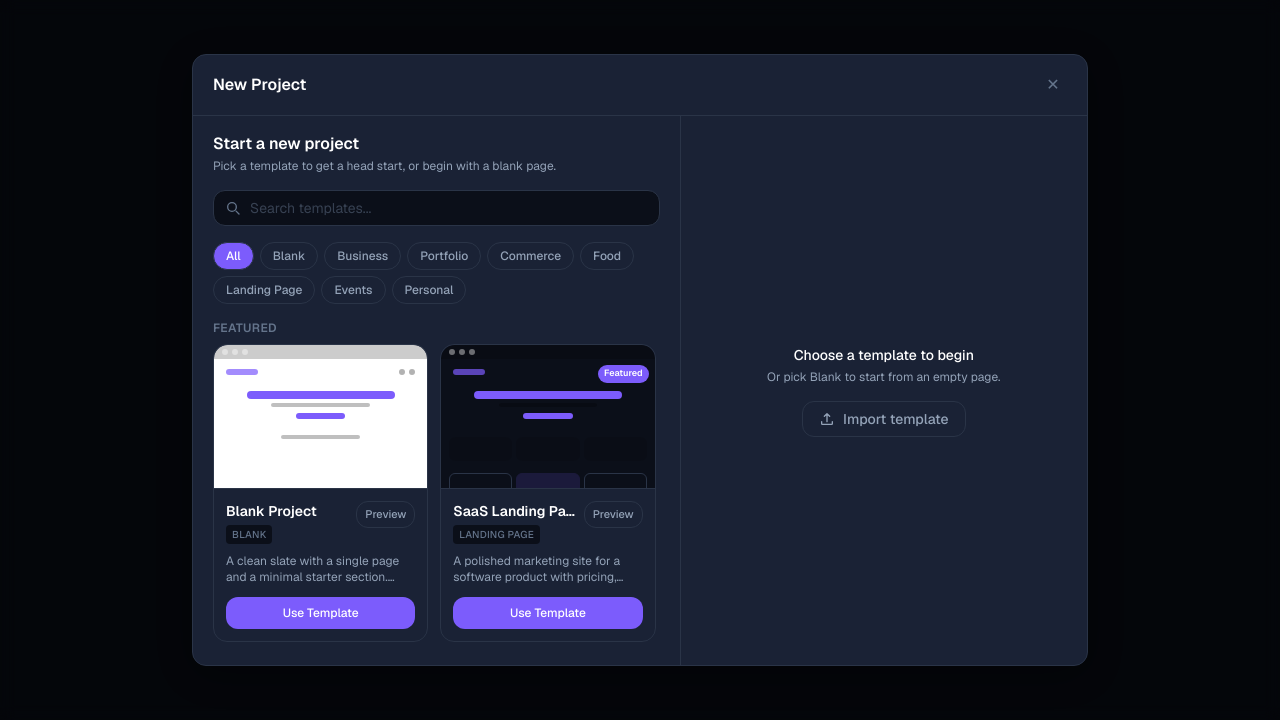
it: NewProjectDialog › failed creation keeps the dialog open and shows the error
The width and height of the screenshot is (1280, 720).
What coordinates should you click on to do the following:
click the button "Use Template" below "SaaS Landing Page"
I would click on:
 (548, 613)
Its box is [453,597,643,629].
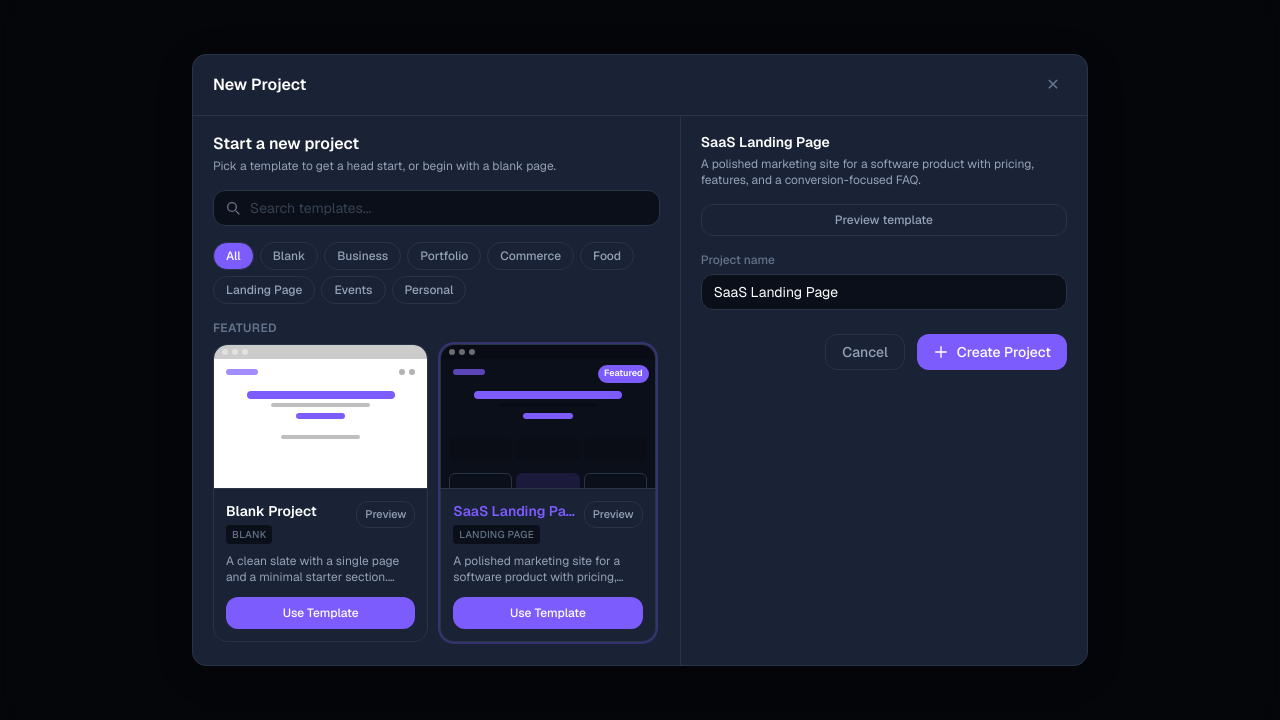
What coordinates should you click on to do the following:
click the button with test id "create-project-button"
I would click on:
 (992, 352)
Its box is [917,334,1067,370].
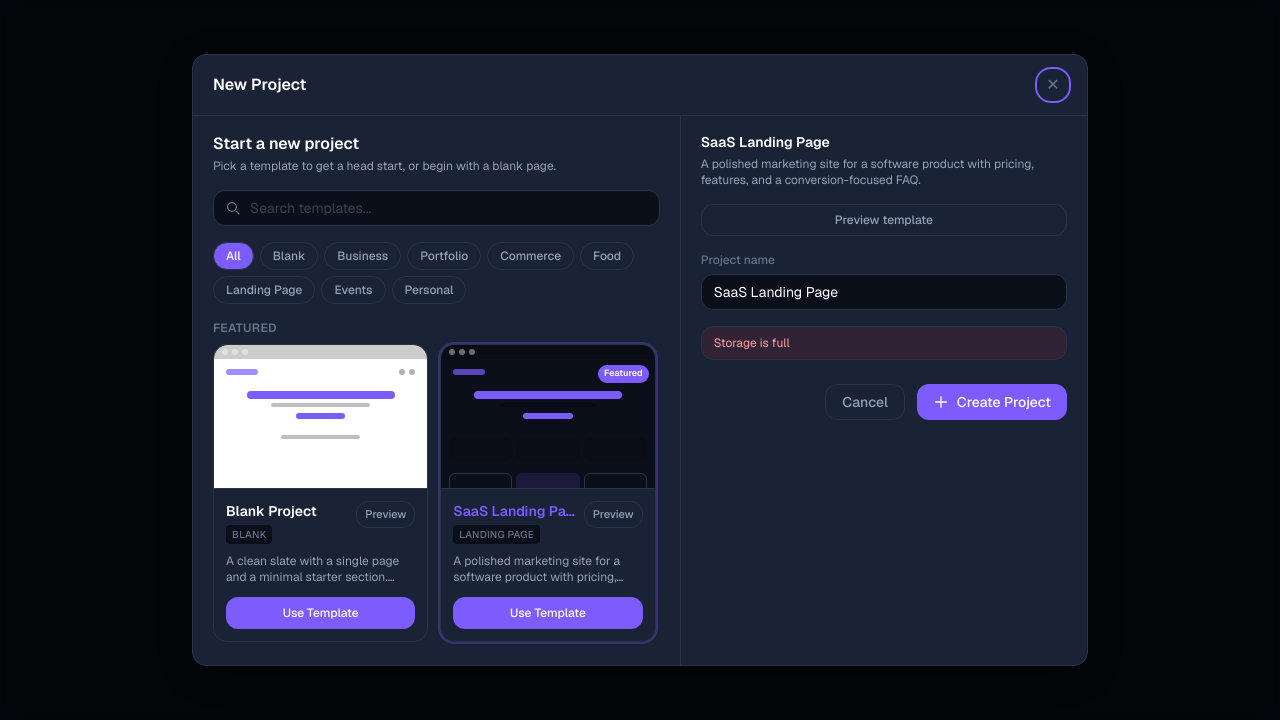
Expected: the message "Storage is full" is shown, [701,326,1067,360]
Expected: the message with test id "new-project-create-error" reads "Storage is full", [714,335,790,351]
